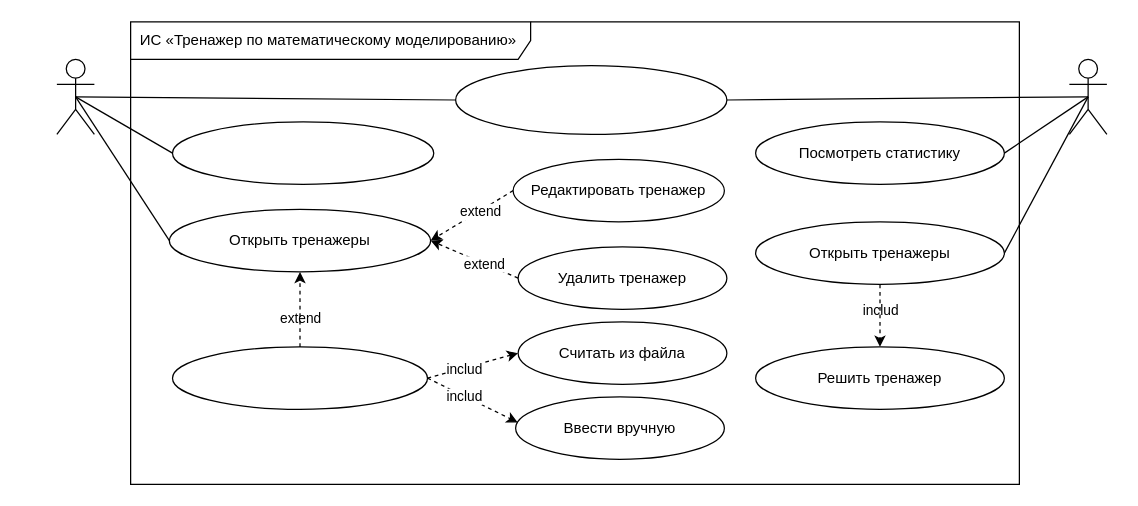
Image size: 1138x506. Some labels were removed from this diagram. The centre of each missing label's shape, as x and y in pixels:
"Добавить тренажер" belongs at (x=299, y=377).
"Изменить информацию в профиле" belongs at (x=590, y=99).
"Посмотреть статистику учеников" belongs at (x=302, y=152).
"Преподаватель" belongs at (x=75, y=96).
"Студент" belongs at (x=1087, y=96).
